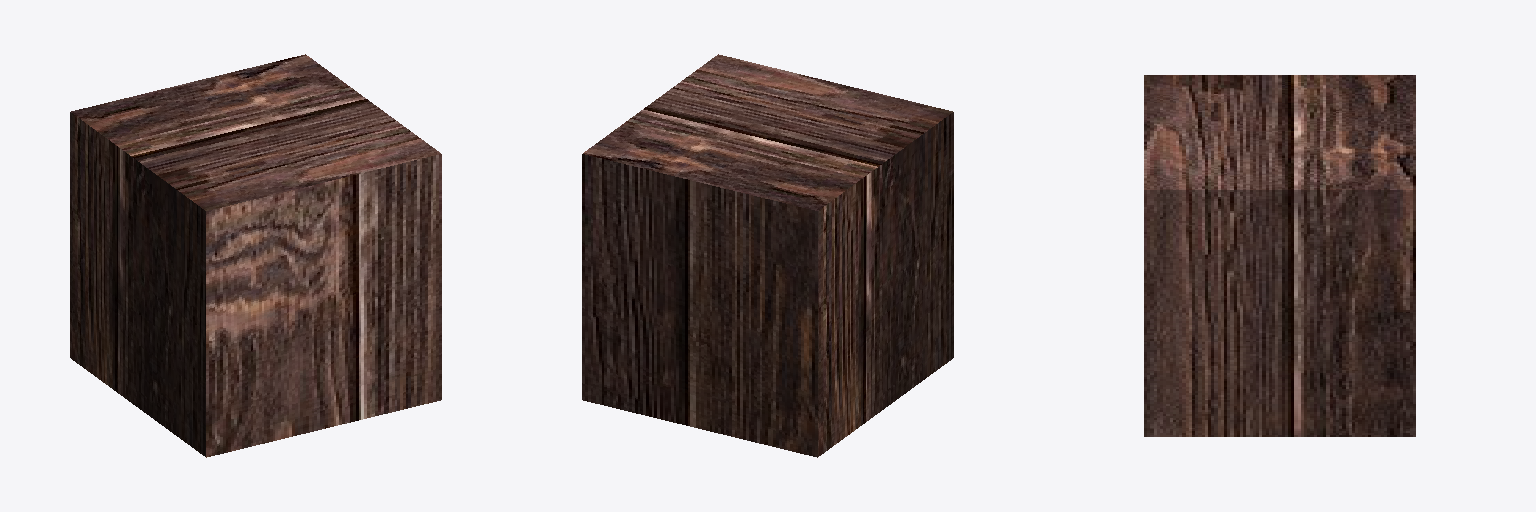
The picture shows the model from 3 angles: view 1: azimuth 30°, elevation 25°; view 2: azimuth 150°, elevation 25°; view 3: azimuth 270°, elevation 25°; orthographic projection.
Visible parts, largest first — view 1: Cube; view 2: Cube; view 3: Cube.
Part boxes in pixels (left/top/right/bottom): Cube: left=70, top=54, right=441, bottom=457; Cube: left=582, top=54, right=953, bottom=457; Cube: left=1144, top=75, right=1415, bottom=436.
Size of the model in its own units: 2 by 2 by 2.
1 materials, 1 textured.